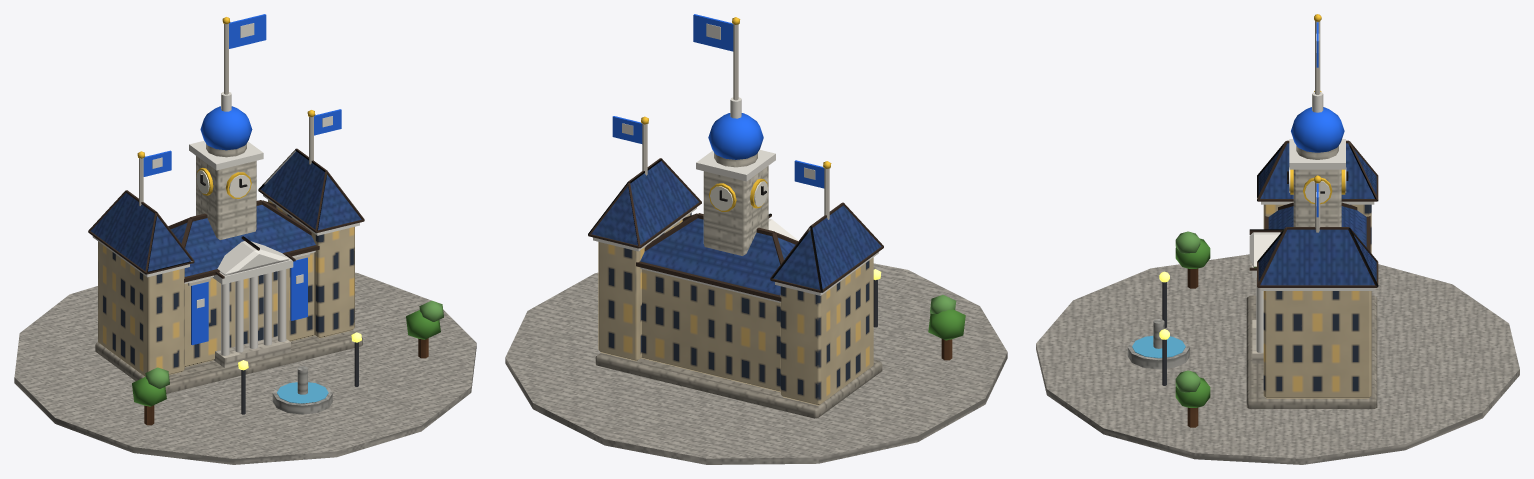
Rendered from residence_dl5_blue.glb.
3 views of the same model, side by side, from view 1: azimuth 30°, elevation 25°; view 2: azimuth 150°, elevation 25°; view 3: azimuth 270°, elevation 25° (orthographic). The views are drawn at different scales.
Parts seen in each view (by area): view 1: residence_dl5_blue; view 2: residence_dl5_blue; view 3: residence_dl5_blue.
Part boxes in pixels (bbox=[...]): residence_dl5_blue: bbox=[14, 14, 476, 464]; residence_dl5_blue: bbox=[505, 14, 1007, 464]; residence_dl5_blue: bbox=[1036, 14, 1519, 464].
Size of the model in its own units: 1.71 by 1.36 by 1.71.
Materials: 2 (1 with a texture image).
